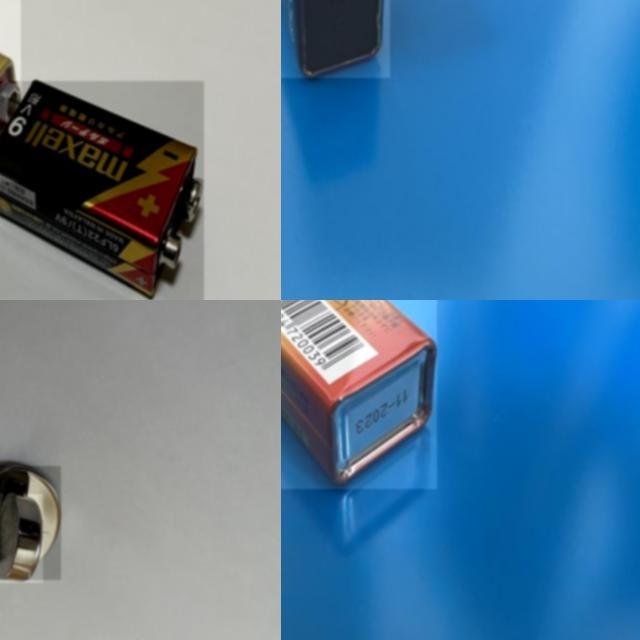9V: (0, 81, 204, 300), (281, 300, 437, 489)
